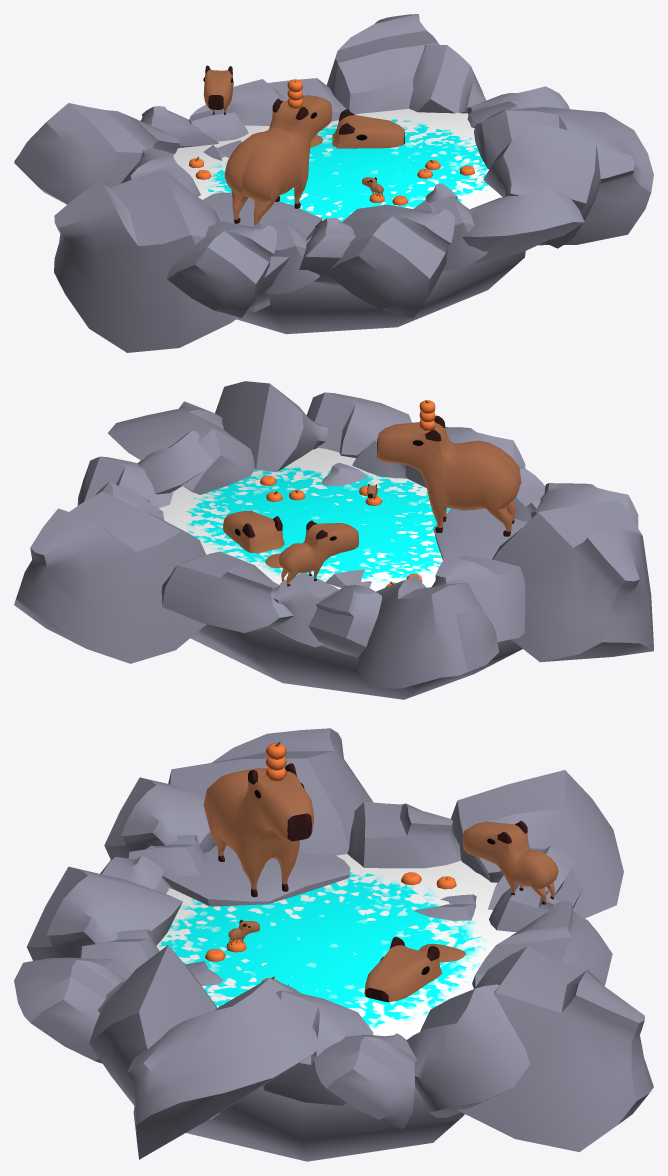
Rendered from capybara.glb.
The picture shows the model from 3 angles, top to bottom: view 1: azimuth 30°, elevation 25°; view 2: azimuth 150°, elevation 25°; view 3: azimuth 270°, elevation 25°; orthographic projection. The views are drawn at different scales.
Parts seen in each view (by area): view 1: Plane.001_10, Plane.006_15, Plane.004_13, Plane.013_22, Plane.007_16, Plane_9, Plane.012_21, Plane.005_14, Plane.003_12, Plane.015_24, Plane.011_20, Plane.022_31 (+11 smaller); view 2: Plane.001_10, Plane.012_21, Plane.006_15, Plane.007_16, Plane_9, Plane.016_25, Plane.005_14, Plane.013_22, Plane.002_11, Plane.015_24, Plane.017_26, Plane.022_31 (+12 smaller); view 3: Plane.001_10, Plane.012_21, Plane.013_22, Plane.007_16, Plane.011_20, Plane.006_15, Plane_9, Plane.005_14, Plane.004_13, Plane.015_24, Plane.014_23, Plane.002_11 (+13 smaller).
Part boxes in pixels (left/top/right/bottom): Plane.001_10: left=173, top=108, right=525, bottom=334; Plane.006_15: left=54, top=169, right=248, bottom=352; Plane.004_13: left=326, top=204, right=454, bottom=318; Plane.013_22: left=474, top=107, right=653, bottom=245; Plane.007_16: left=14, top=103, right=180, bottom=204; Plane_9: left=224, top=95, right=332, bottom=225; Plane.012_21: left=326, top=14, right=439, bottom=114; Plane.005_14: left=483, top=124, right=600, bottom=248; Plane.003_12: left=167, top=221, right=277, bottom=318; Plane.015_24: left=462, top=188, right=584, bottom=262; Plane.011_20: left=409, top=44, right=486, bottom=113; Plane.022_31: left=203, top=192, right=322, bottom=312; Plane.001_10: left=159, top=448, right=522, bottom=699; Plane.012_21: left=14, top=491, right=206, bottom=663; Plane.006_15: left=492, top=501, right=653, bottom=662; Plane.007_16: left=357, top=575, right=498, bottom=688; Plane_9: left=377, top=415, right=521, bottom=536; Plane.016_25: left=161, top=551, right=293, bottom=632; Plane.005_14: left=215, top=381, right=327, bottom=472; Plane.013_22: left=107, top=401, right=254, bottom=494; Plane.002_11: left=432, top=555, right=525, bottom=641; Plane.015_24: left=306, top=392, right=411, bottom=457; Plane.017_26: left=308, top=585, right=381, bottom=657; Plane.022_31: left=433, top=508, right=527, bottom=560; Plane.001_10: left=156, top=854, right=515, bottom=1161; Plane.012_21: left=457, top=946, right=653, bottom=1151; Plane.013_22: left=127, top=978, right=322, bottom=1159; Plane.007_16: left=450, top=770, right=623, bottom=918; Plane.011_20: left=406, top=984, right=530, bottom=1117; Plane.006_15: left=168, top=728, right=373, bottom=855; Plane_9: left=203, top=763, right=313, bottom=897; Plane.005_14: left=89, top=945, right=219, bottom=1119; Plane.004_13: left=27, top=866, right=182, bottom=960; Plane.015_24: left=14, top=957, right=131, bottom=1063; Plane.014_23: left=313, top=1033, right=416, bottom=1129; Plane.002_11: left=347, top=801, right=460, bottom=868.
Bounding box in the file's own units: 16.43 × 7.19 × 13.02.
7 materials, 1 textured.
